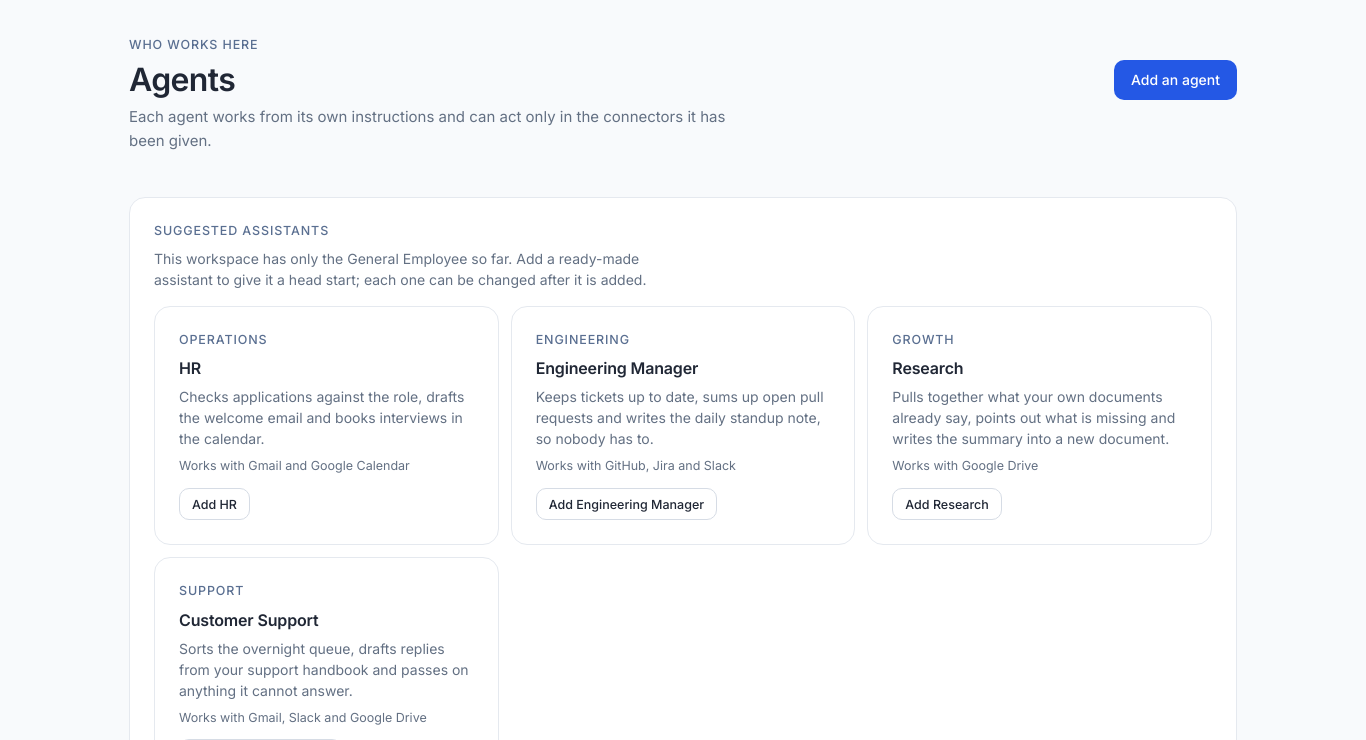
suggested assistants › say what went wrong when one cannot be added, and leave the others to try
Click the button with aria-label "Add the HR assistant": (214, 504) [179,488,250,520]
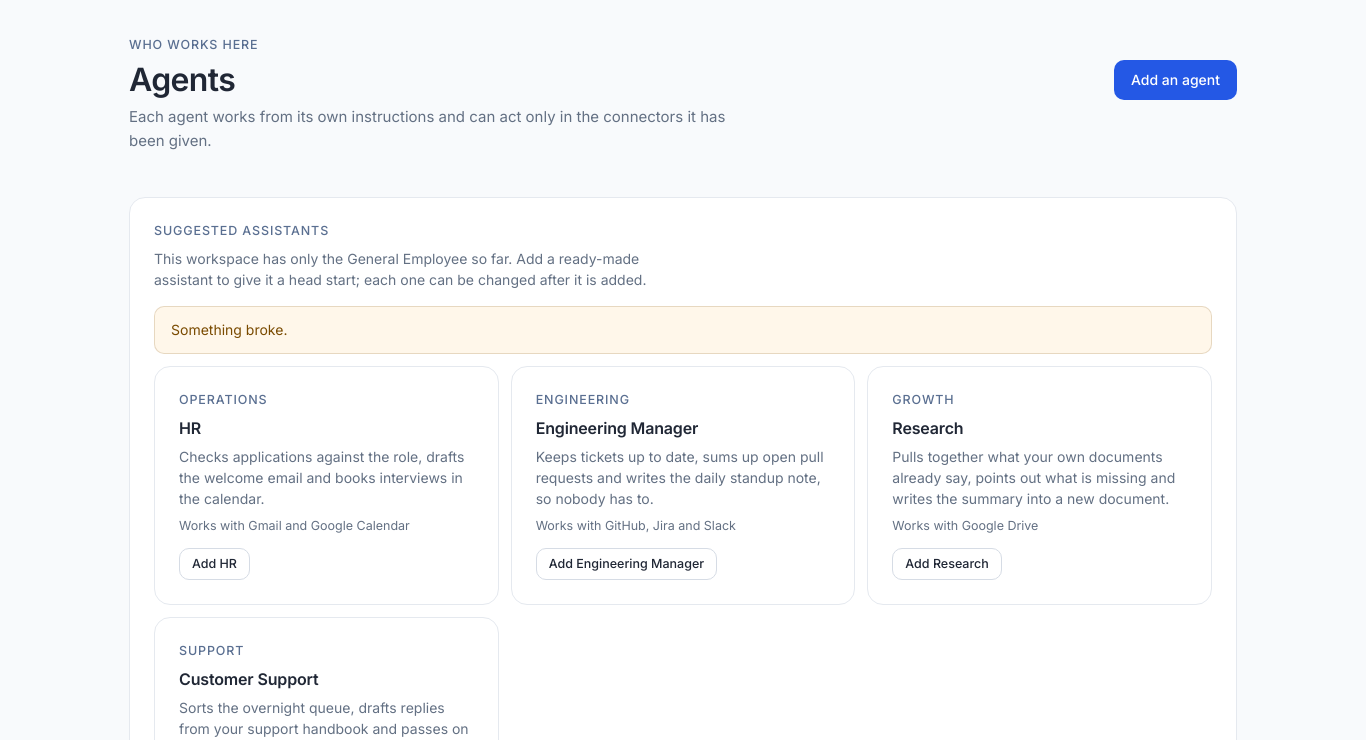
Expected: the button with aria-label "Add the Research assistant" is enabled, [892,548,1002,580]
Expected: the message reads "Something broke.", [171,321,287,338]
